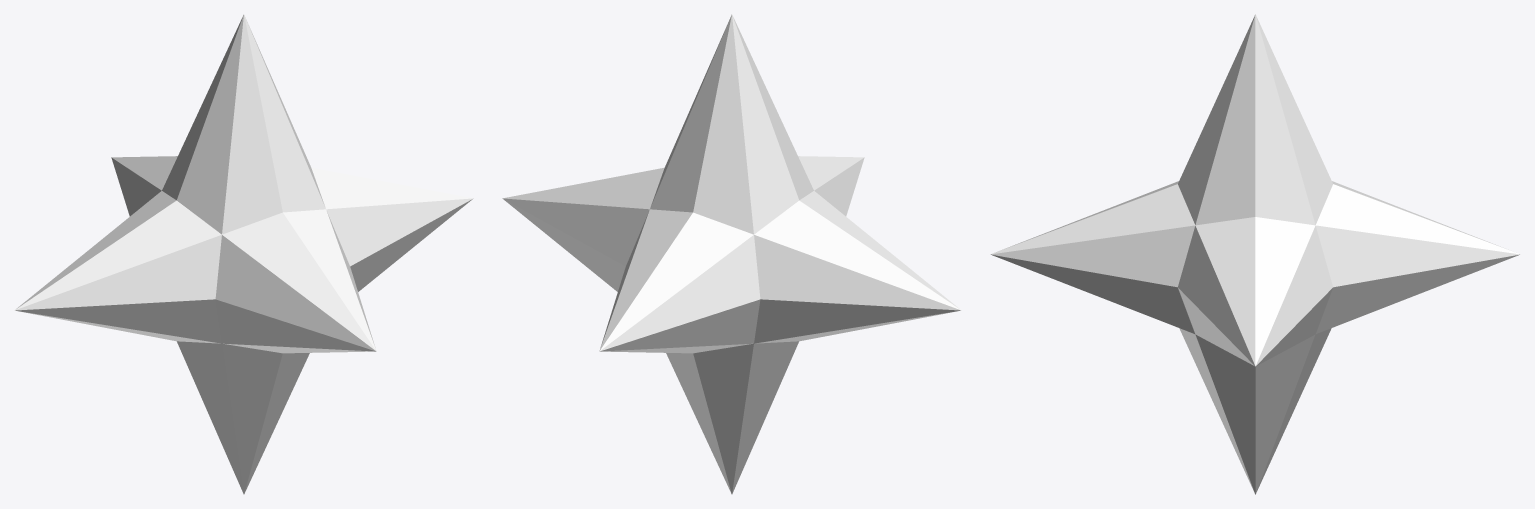
File: small-rhombihexacron.gltf
3 renders of one model, left to right at view 1: azimuth 30°, elevation 25°; view 2: azimuth 150°, elevation 25°; view 3: azimuth 270°, elevation 25°, orthographic.
Parts seen in each view (by area): view 1: Small Rhombihexacron (Dual of 8.4.8/7.4/3), WD86, p57; view 2: Small Rhombihexacron (Dual of 8.4.8/7.4/3), WD86, p57; view 3: Small Rhombihexacron (Dual of 8.4.8/7.4/3), WD86, p57.
Boxes of the visible parts, x1,y1,x2,y2 form: Small Rhombihexacron (Dual of 8.4.8/7.4/3), WD86, p57: (14,14,473,494); Small Rhombihexacron (Dual of 8.4.8/7.4/3), WD86, p57: (502,14,961,494); Small Rhombihexacron (Dual of 8.4.8/7.4/3), WD86, p57: (990,14,1520,494).
Bounding box in the file's own units: 67.63 × 67.63 × 67.63.
Materials: 1 (1 with a texture image).
